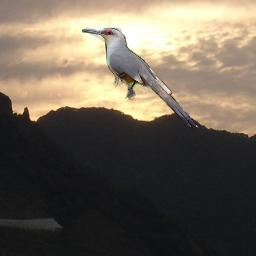Cuckoo: (82, 27, 199, 130)
